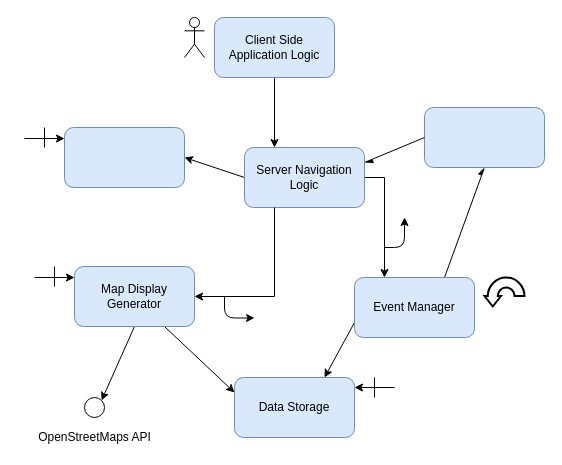
The diagram is 562 pixels wide and 465 high, and some of its shapes have lost their labels. The shapes that lost their labels are listed below. From the top down, each one's box as (x1, y1, x2, y2) in pixels, then its label:
(64, 126, 184, 188): View Creator
(424, 106, 544, 168): Notification Component
